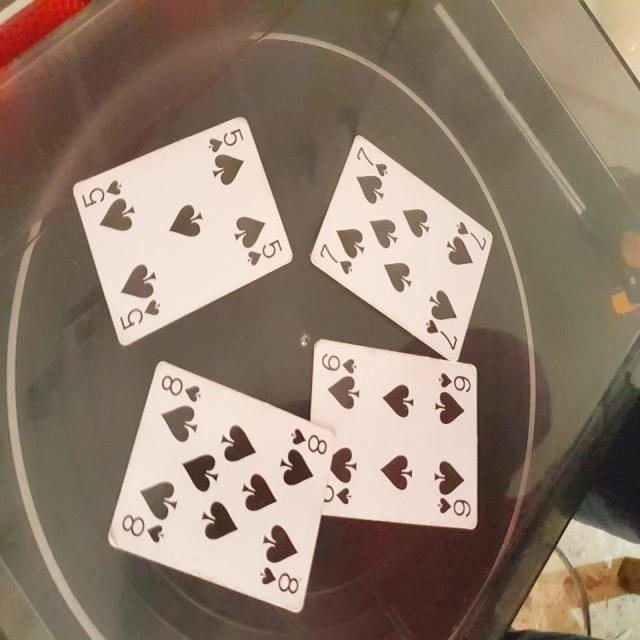5 Spades: (63, 113, 298, 370)
6 Spades: (303, 347, 489, 538)
7 Spades: (302, 121, 497, 361)
8 Spades: (102, 357, 338, 630)
